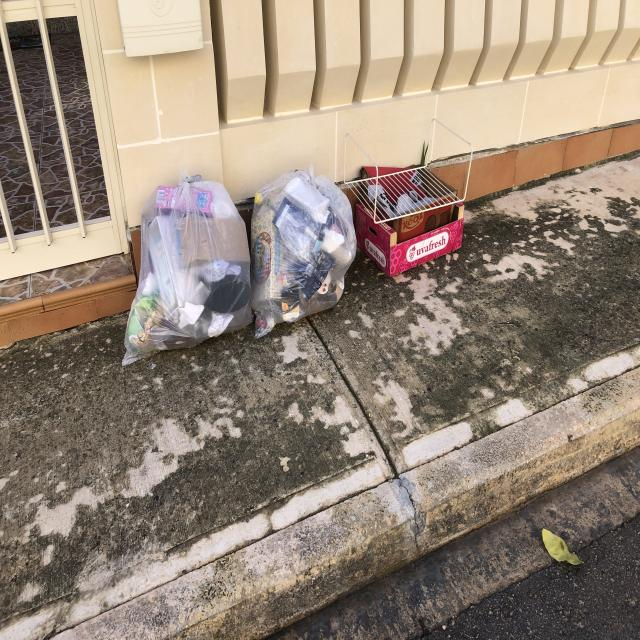Organic Waste -White Bag-: (122, 172, 254, 370), (249, 168, 360, 341)
Other: (362, 165, 478, 276)
